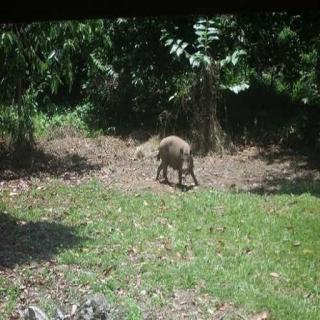Pig: (144, 131, 206, 201)
